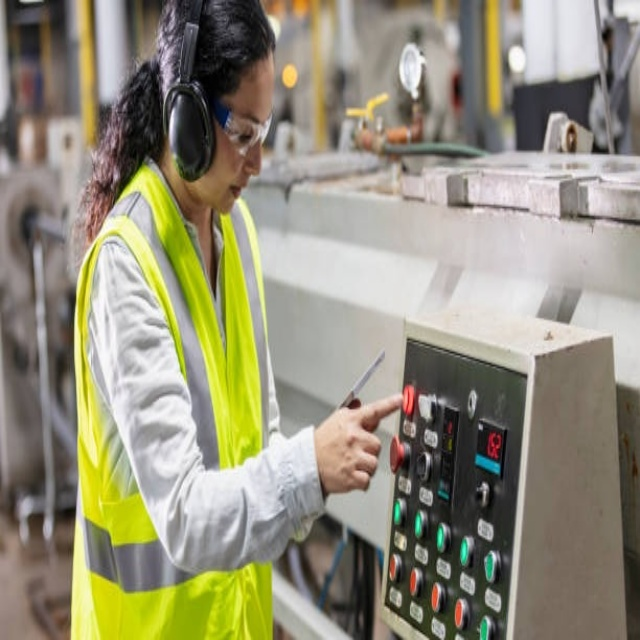Gafas: (210, 94, 274, 155)
Sin_guantes: (317, 392, 402, 495)
Sin_mascara: (213, 173, 253, 216)
